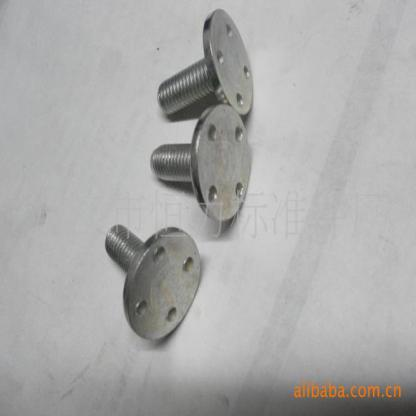FOD: (150, 102, 253, 222), (157, 3, 258, 118), (105, 222, 202, 340)
